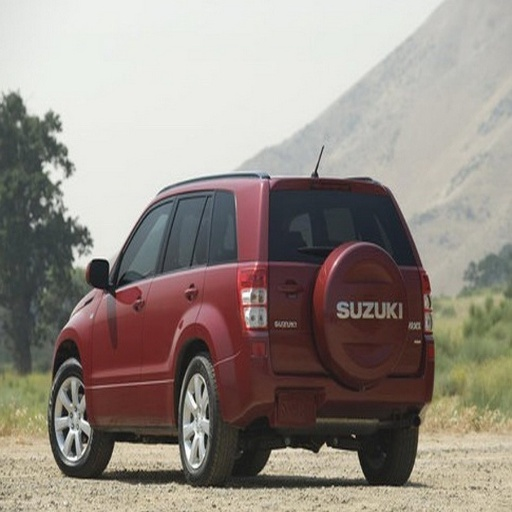back_bumper: (231, 364, 431, 429)
back_glass: (283, 194, 327, 237)
tailgate: (328, 333, 397, 378)
trunk: (215, 248, 416, 384)
